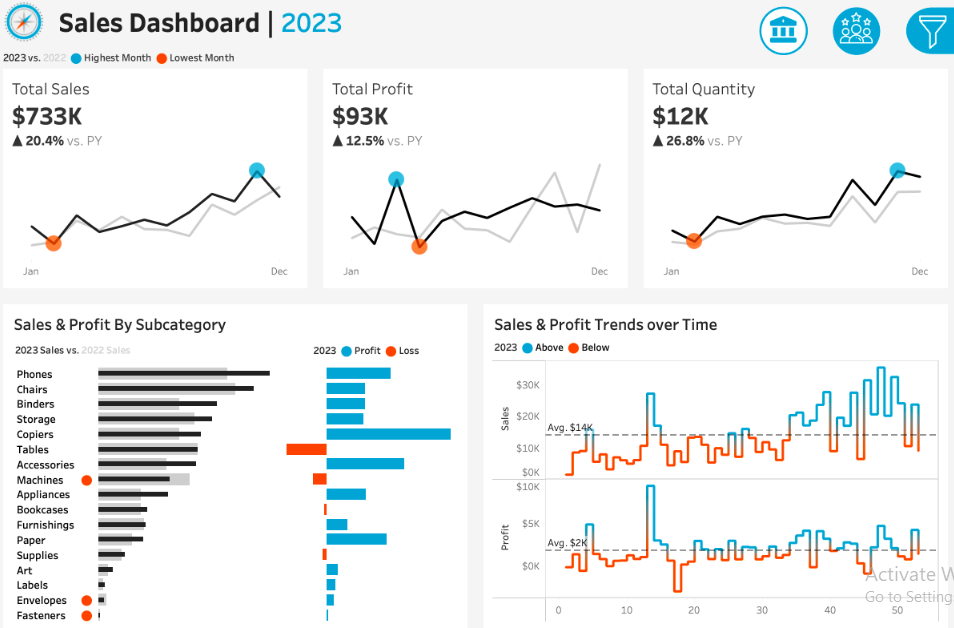

The dashboard page shown, as its layout file describes it:
{"tool":"tableau","page":{"name":"Sales DashBoard","canvas":[1200,800],"ordinal":1},"visuals":[{"type":"image","param":"Image/Icon - Logo.png","box":[0,0,58,38]},{"type":"text","box":[58,0,810,38]},{"type":"dashboard-object","box":[868,0,111,38]},{"type":"dashboard-object","box":[979,0,111,38]},{"type":"dashboard-object","box":[1090,0,110,38]},{"type":"worksheet","title":"Legend KPI","mark":"Automatic","box":[0,38,1200,40]},{"type":"worksheet","title":"KPI Sales","mark":"Automatic","rows":["Calculation_185210597038391300"],"cols":["Order Date"],"box":[0,78,400,327]},{"type":"worksheet","title":"KPI Profit","mark":"Automatic","rows":["Calculation_185210597069656078"],"cols":["Order Date"],"box":[400,78,400,327]},{"type":"worksheet","title":"KPI Qty","mark":"Automatic","rows":["Calculation_185210597084565527"],"cols":["Order Date"],"box":[800,78,400,327]},{"type":"text","box":[1001.1,85.4,194.8,59.6]},{"type":"parameter","param":"[Parameters].[Parameter 1]","box":[1001.1,145,194.8,59.6]},{"type":"blank","box":[1001.1,204.6,194.8,43.6]},{"type":"text","box":[1001.1,248.1,194.8,33.2]},{"type":"filter","title":"KPI Sales","param":"[federated.076h3mq1856ypf13a0oo01kiv55z].[none:Category:nk]","box":[1001.1,281.4,194.8,59.6]},{"type":"filter","title":"KPI Sales","param":"[federated.076h3mq1856ypf13a0oo01kiv55z].[none:Sub-Category:nk]","box":[1001.1,341,194.8,59.6]},{"type":"text","box":[1001.1,400.6,194.8,33.2]},{"type":"text","box":[19,424,564,32]},{"type":"text","box":[617,424,564,34]},{"type":"filter","title":"KPI Sales","param":"[federated.076h3mq1856ypf13a0oo01kiv55z].[none:Region:nk]","box":[1001.1,433.8,194.8,59.6]},{"type":"worksheet","title":"Legend Subcategory","mark":"Automatic","box":[19,456,343,30]},{"type":"text","box":[362,456,221,30]},{"type":"text","box":[617,463,564,30]},{"type":"worksheet","title":"SubCategory Comparison","mark":"Bar","rows":["Sub-Category","Calculation_185210597111304218"],"cols":["CY Sales (copy)_185210597019185154","Calculation_185210597018755073","Calculation_185210597062148106"],"box":[19,486,564,311.9]},{"type":"worksheet","title":"Weekly Trends","mark":"Automatic","rows":["Calculation_185210597018755073","Calculation_185210597062148106"],"cols":["Order Date"],"box":[617,493,564,305]},{"type":"filter","title":"KPI Sales","param":"[federated.076h3mq1856ypf13a0oo01kiv55z].[none:City:nk]","box":[1001.1,493.4,194.8,59.6]},{"type":"filter","title":"KPI Sales","param":"[federated.076h3mq1856ypf13a0oo01kiv55z].[none:State:nk]","box":[1001.1,553,194.8,163.9]}]}

Visuals, with their boxes in screenshot pixels (x1, y1, x2, y2), scaled from the page's 1200x800 canvas onto the 954x628 screenshot:
image: <box>0,0,46,30</box>
text: <box>46,0,690,30</box>
dashboard-object: <box>690,0,778,30</box>
dashboard-object: <box>778,0,867,30</box>
dashboard-object: <box>867,0,953,30</box>
"Legend KPI" worksheet: <box>0,30,953,61</box>
"KPI Sales" worksheet: <box>0,61,318,318</box>
"KPI Profit" worksheet: <box>318,61,636,318</box>
"KPI Qty" worksheet: <box>636,61,953,318</box>
text: <box>796,67,951,114</box>
parameter: <box>796,114,951,161</box>
blank: <box>796,161,951,195</box>
text: <box>796,195,951,221</box>
"KPI Sales" filter: <box>796,221,951,268</box>
"KPI Sales" filter: <box>796,268,951,314</box>
text: <box>796,314,951,341</box>
text: <box>15,333,463,358</box>
text: <box>491,333,939,360</box>
"KPI Sales" filter: <box>796,341,951,387</box>
"Legend Subcategory" worksheet: <box>15,358,288,382</box>
text: <box>288,358,463,382</box>
text: <box>491,363,939,387</box>
"SubCategory Comparison" worksheet (Bar marks): <box>15,382,463,626</box>
"Weekly Trends" worksheet: <box>491,387,939,626</box>
"KPI Sales" filter: <box>796,387,951,434</box>
"KPI Sales" filter: <box>796,434,951,563</box>
